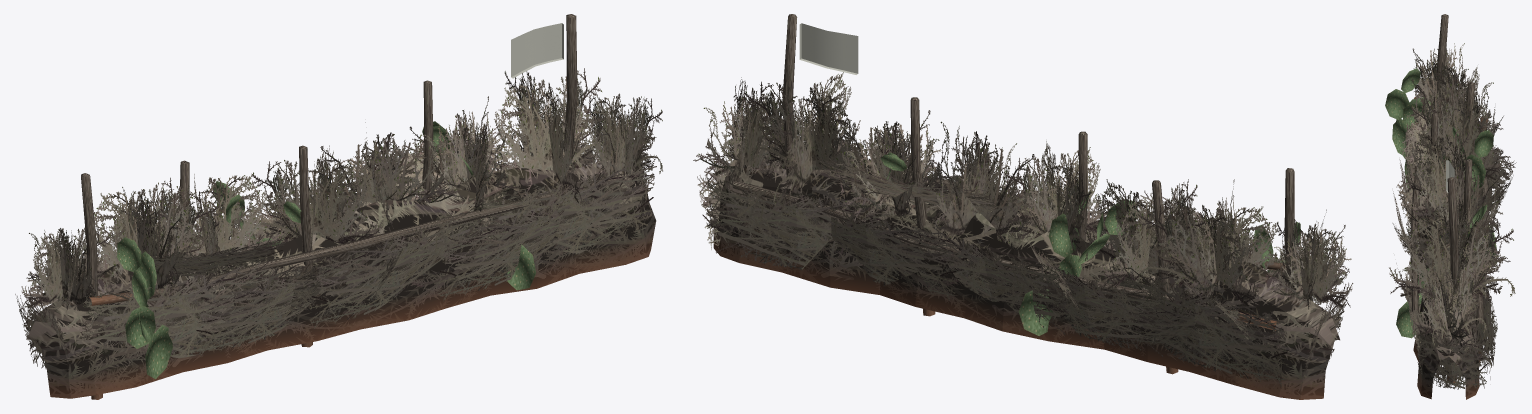
Rendered from palissade_c.glb.
The picture shows the model from 3 angles, left to right: view 1: azimuth 30°, elevation 25°; view 2: azimuth 150°, elevation 25°; view 3: azimuth 270°, elevation 25°; orthographic projection. The views are drawn at different scales.
Visible parts, largest first — view 1: Palissade_c, Banniere; view 2: Palissade_c, Banniere; view 3: Palissade_c, Banniere.
Part boxes in pixels (x1,y1,x2,y2): Palissade_c: (15, 14, 662, 399); Banniere: (511, 23, 563, 78); Palissade_c: (693, 14, 1353, 399); Banniere: (799, 23, 858, 74); Palissade_c: (1385, 14, 1516, 399); Banniere: (1446, 160, 1454, 192).
Bounding box in the file's own units: 4.79 × 1.83 × 1.07.
Materials: 2 (2 with a texture image).
